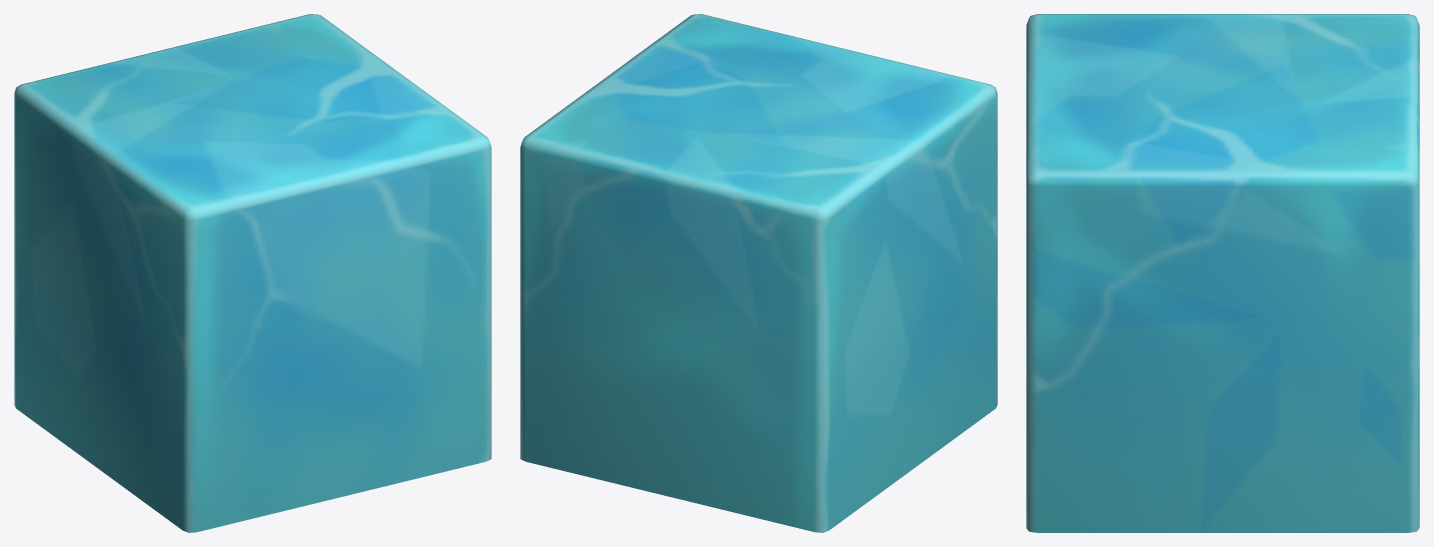
File: Ice Cube.fbx
The picture shows the model from 3 angles, left to right: view 1: azimuth 30°, elevation 25°; view 2: azimuth 150°, elevation 25°; view 3: azimuth 270°, elevation 25°; orthographic projection. The views are drawn at different scales.
Visible parts, largest first — view 1: Box018; view 2: Box018; view 3: Box018.
Part boxes in pixels (left/top/right/bottom): Box018: left=14, top=14, right=491, bottom=532; Box018: left=520, top=14, right=997, bottom=532; Box018: left=1026, top=14, right=1419, bottom=532.
Size of the model in its own units: 300 by 300 by 300.
